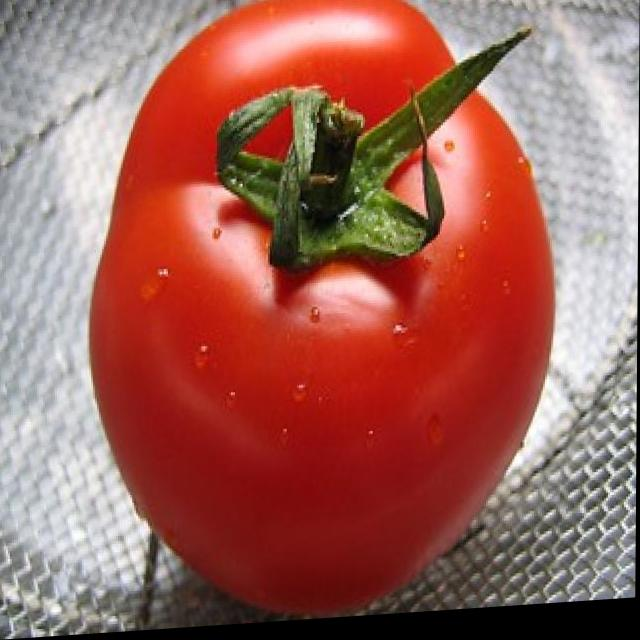kirmizi: (72, 0, 556, 636)
